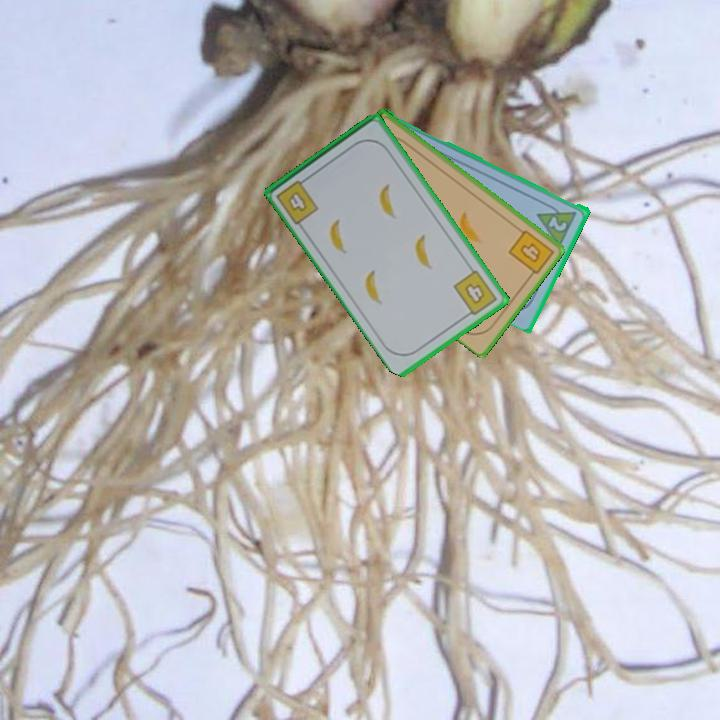2p: (545, 213, 570, 234)
4b: (505, 226, 556, 281), (450, 266, 500, 320), (273, 173, 322, 227)
